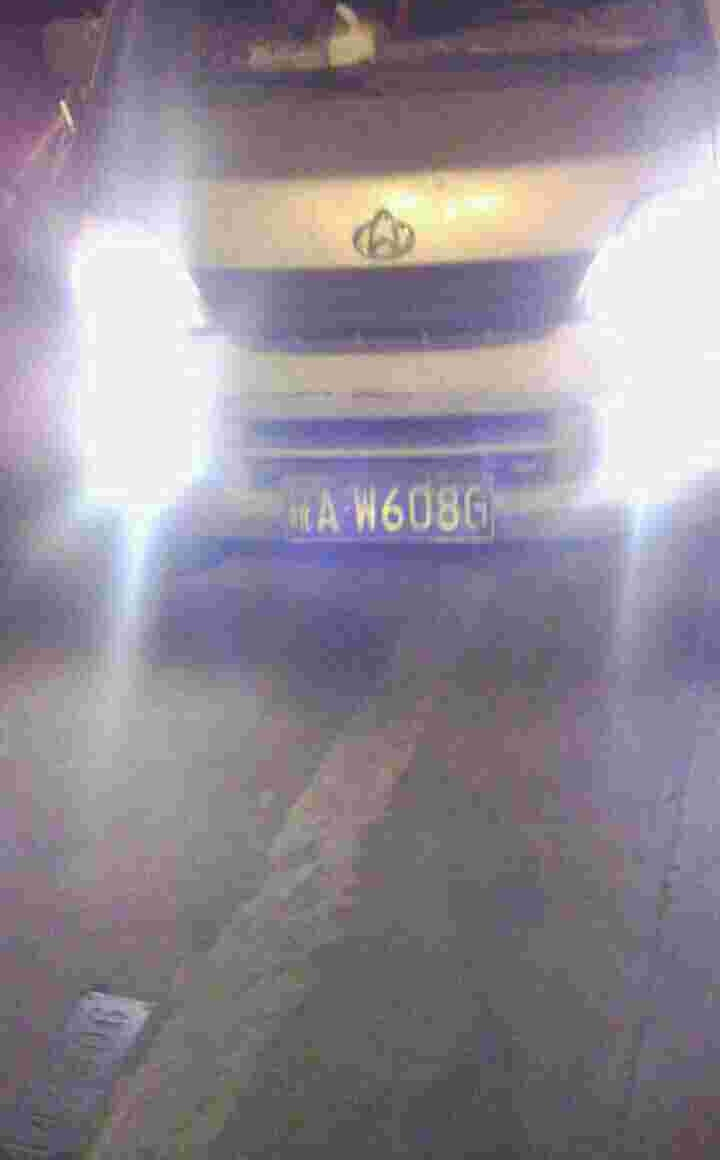license_plate: (278, 474, 505, 542)
